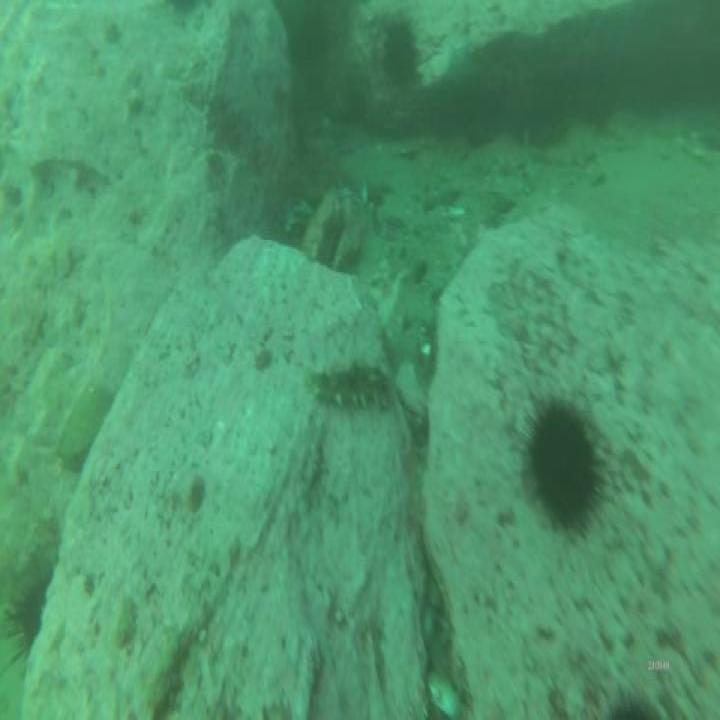echinus: (524, 400, 594, 524), (381, 23, 415, 80)
holothurian: (310, 366, 389, 411)
scallop: (427, 665, 460, 720)
